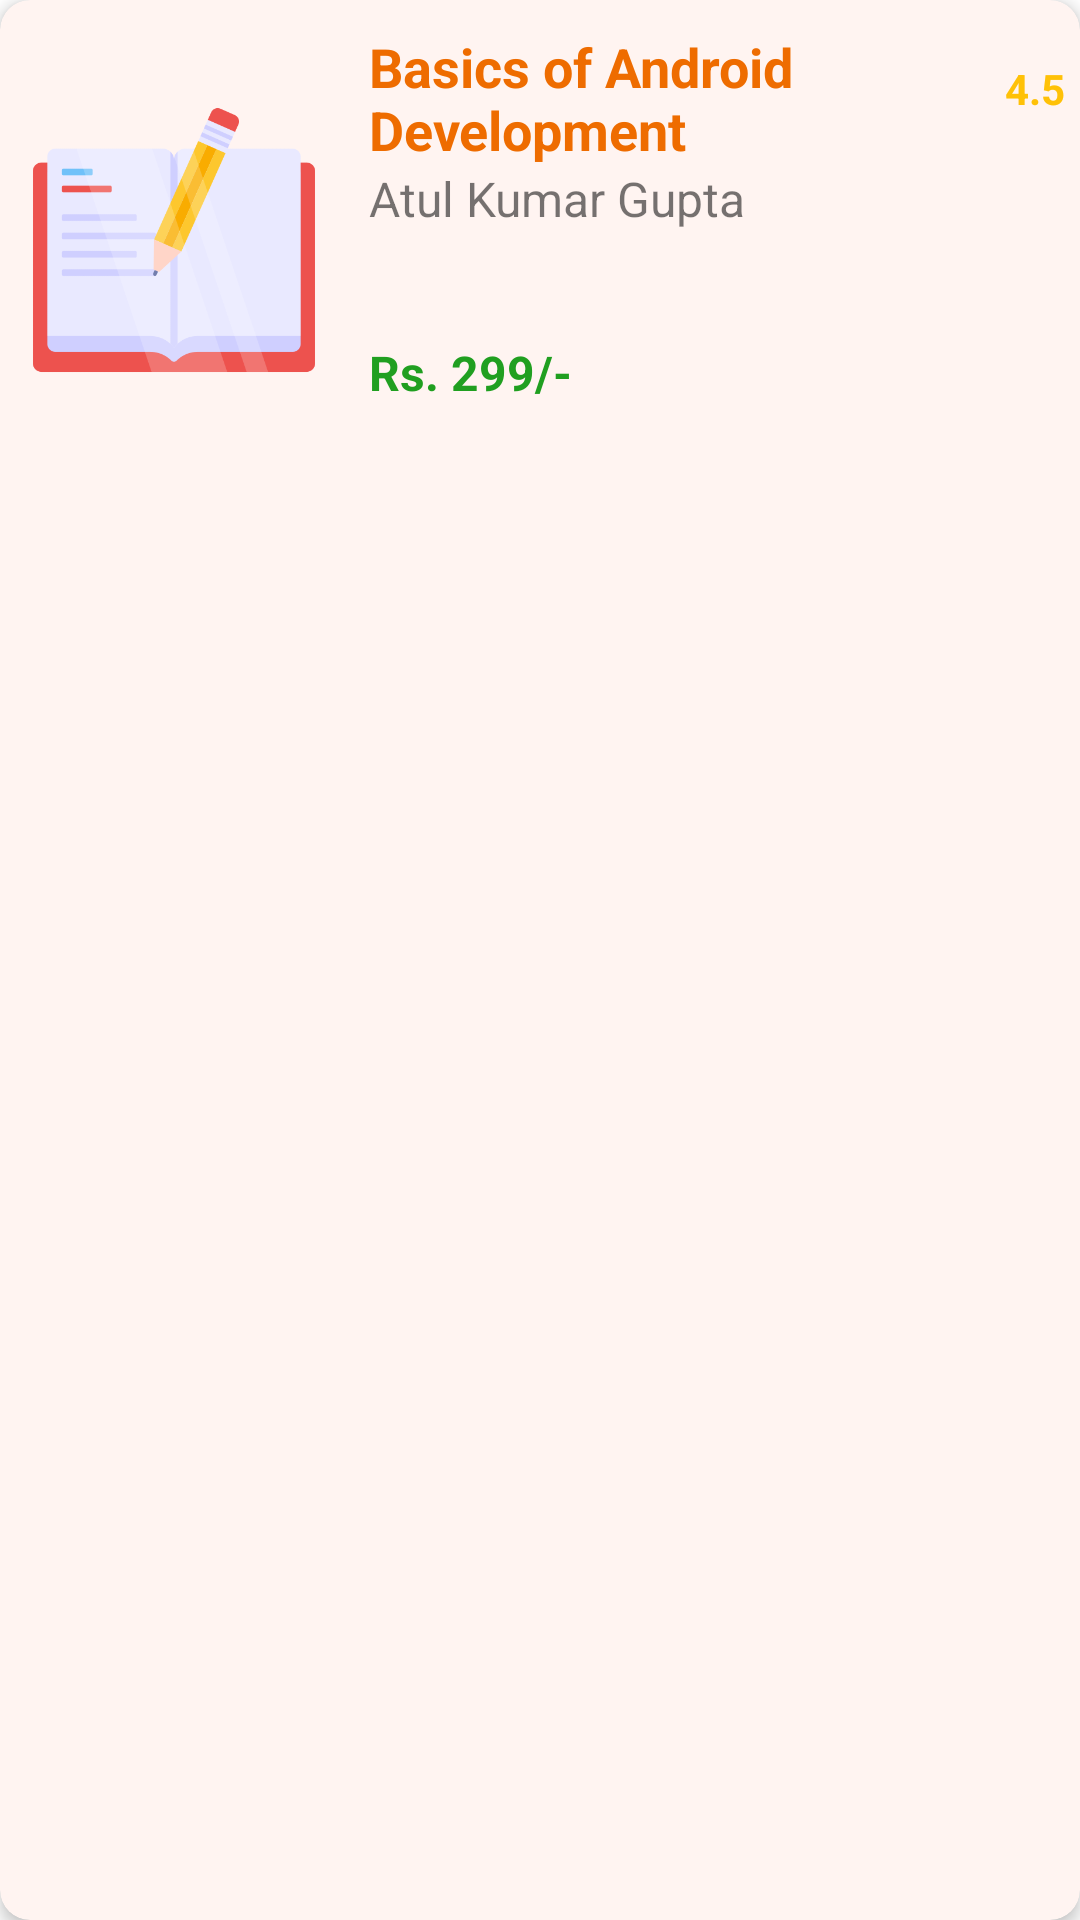

Where to tap for icons on this 1080 × 1920 app screen, as (x,y):
This is a dummy book image: (174,240)
